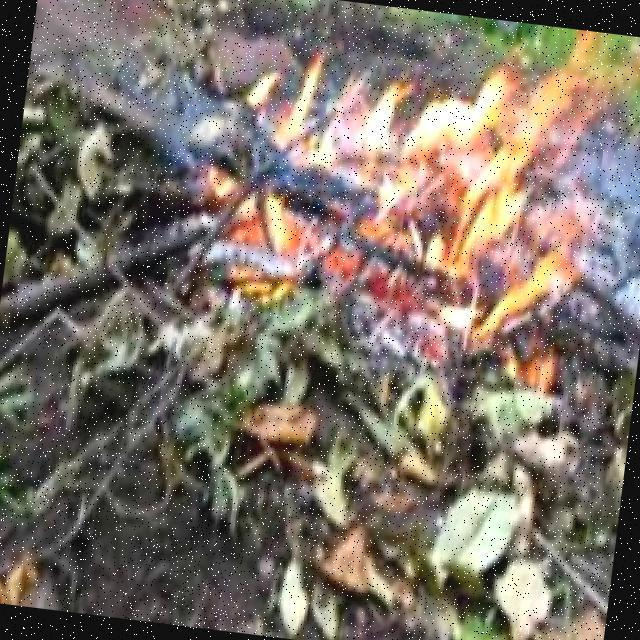Fire: (172, 13, 624, 364)
